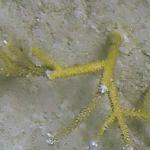alive: (3, 2, 148, 148)
